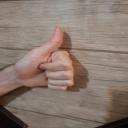ThumbsUp: (16, 26, 82, 92)
